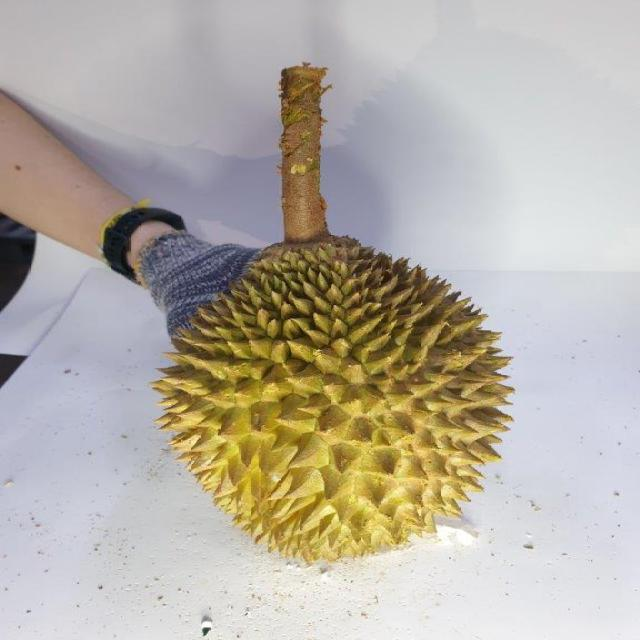mature: (152, 233, 512, 562)
